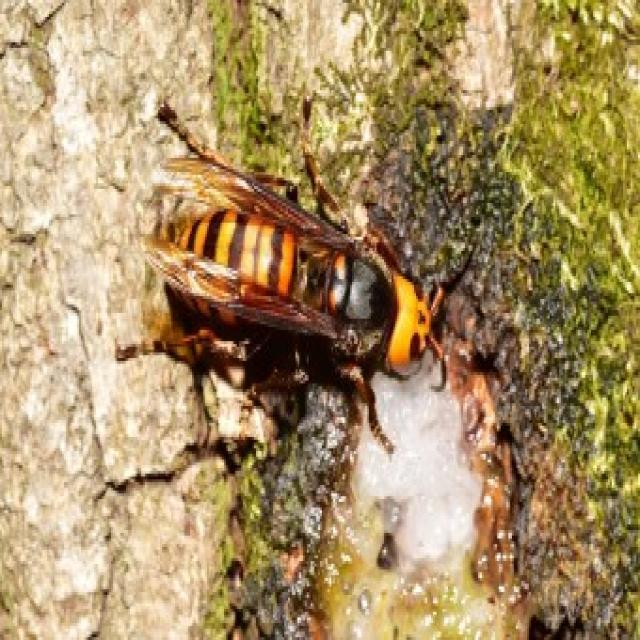Wasp: (143, 105, 456, 456)
